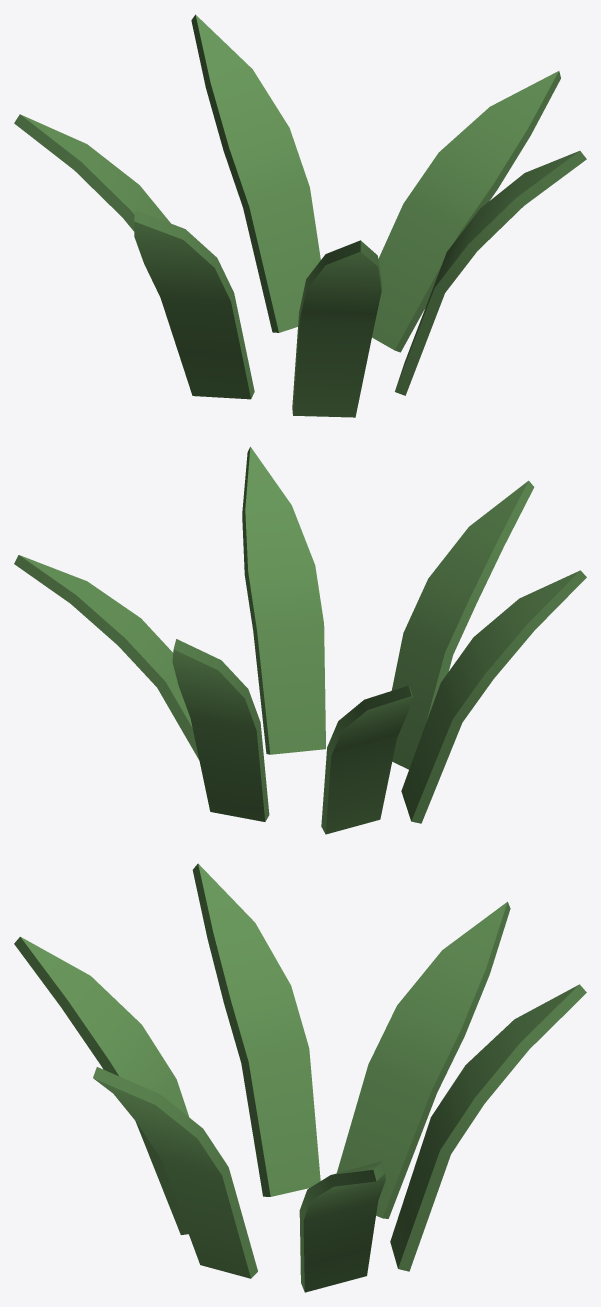
Rendered from Herbe_02.fbx.
3 views of the same model, one above another, from view 1: azimuth 30°, elevation 25°; view 2: azimuth 150°, elevation 25°; view 3: azimuth 270°, elevation 25° (orthographic). The views are drawn at different scales.
Parts seen in each view (by area): view 1: Herbe_02; view 2: Herbe_02; view 3: Herbe_02.
Part boxes in pixels (left/top/right/bottom): Herbe_02: left=14, top=14, right=586, bottom=417; Herbe_02: left=14, top=446, right=586, bottom=834; Herbe_02: left=14, top=863, right=586, bottom=1292.
Size of the model in its own units: 61.63 by 29.69 by 56.89.
Materials: 1 (1 with a texture image).
